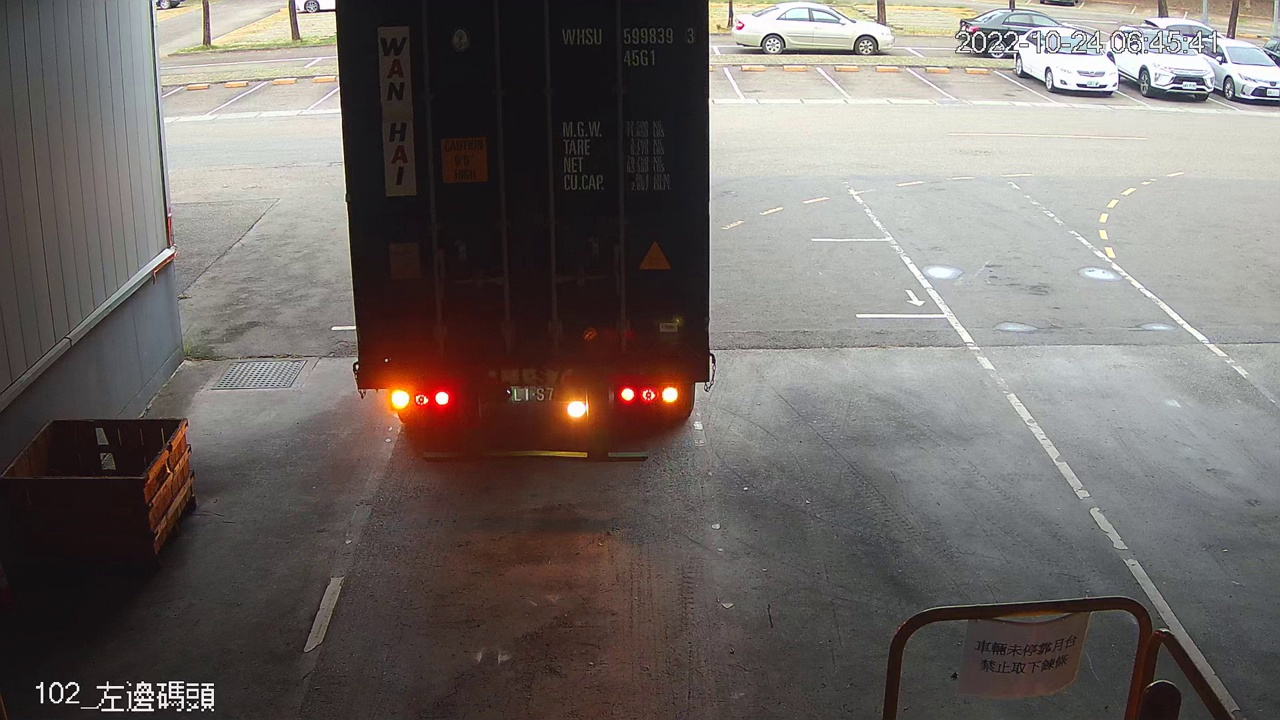container: (556, 20, 702, 72)
